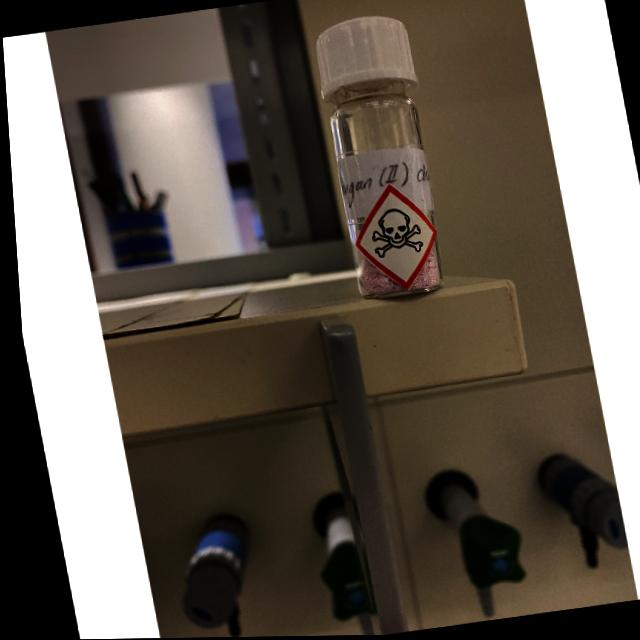acute toxicity: (361, 206, 423, 261)
